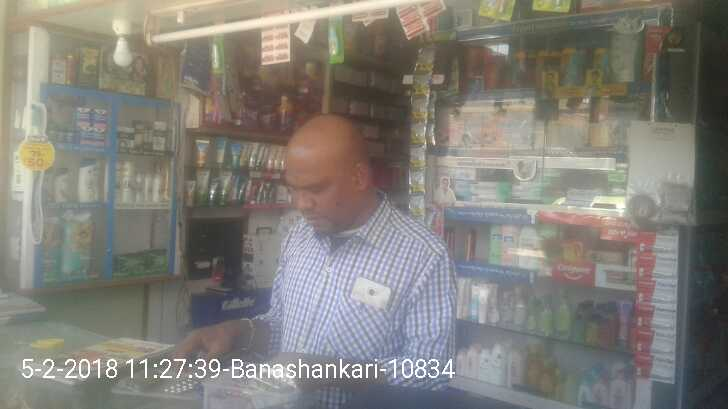beauty: (79, 156, 99, 202), (51, 167, 71, 204), (121, 159, 135, 204), (153, 119, 167, 149), (118, 127, 133, 154), (133, 121, 143, 155)
pharmacy: (62, 208, 93, 279), (112, 252, 144, 275), (140, 248, 169, 272), (75, 106, 92, 137), (92, 109, 107, 134)
